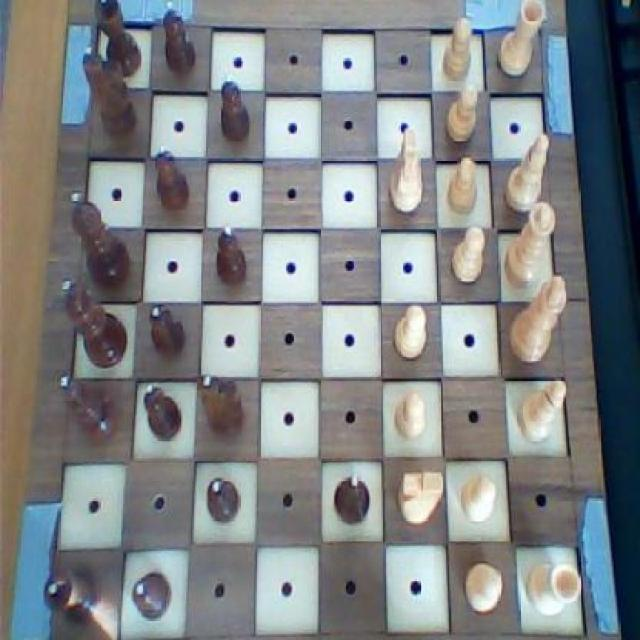bishop: (57, 371, 122, 452), (329, 468, 373, 527)
black-bishop: (55, 276, 128, 372)
black-king: (78, 41, 140, 146), (194, 368, 248, 442)
black-knight: (157, 0, 198, 78), (214, 70, 254, 148), (151, 142, 193, 213), (208, 220, 250, 288), (138, 380, 184, 440), (198, 472, 244, 528), (148, 302, 188, 363), (129, 566, 174, 619)
black-pawn: (68, 186, 133, 290)
black-queen: (91, 0, 146, 83), (40, 564, 103, 620)
black-rook: (500, 129, 555, 215), (514, 372, 572, 448)
white-bishop: (510, 271, 572, 365)
white-king: (384, 117, 428, 217), (391, 464, 447, 528)
white-knight: (440, 82, 483, 149), (389, 298, 431, 362), (462, 558, 506, 618), (442, 152, 481, 218), (440, 15, 475, 88), (449, 222, 486, 289), (457, 472, 499, 528), (392, 388, 427, 443)
white-pawn: (498, 200, 561, 298)
white-queen: (492, 0, 548, 80), (524, 557, 586, 622)
